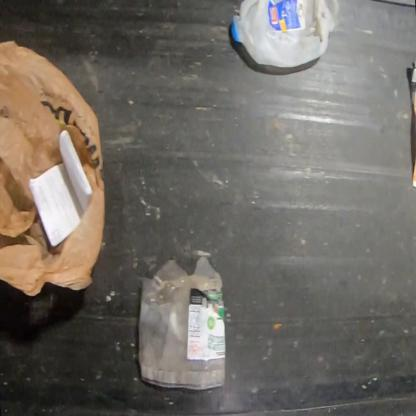rigid_plastic: (137, 256, 227, 388), (230, 0, 338, 70)
soft_plastic: (0, 41, 105, 298)
